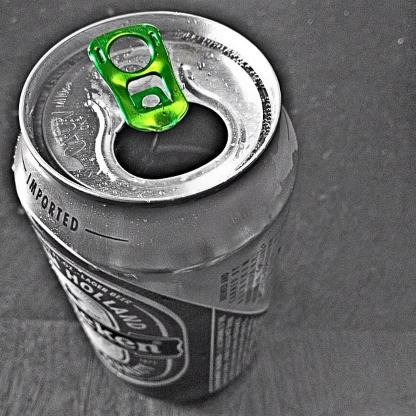Can: (7, 8, 302, 408)
